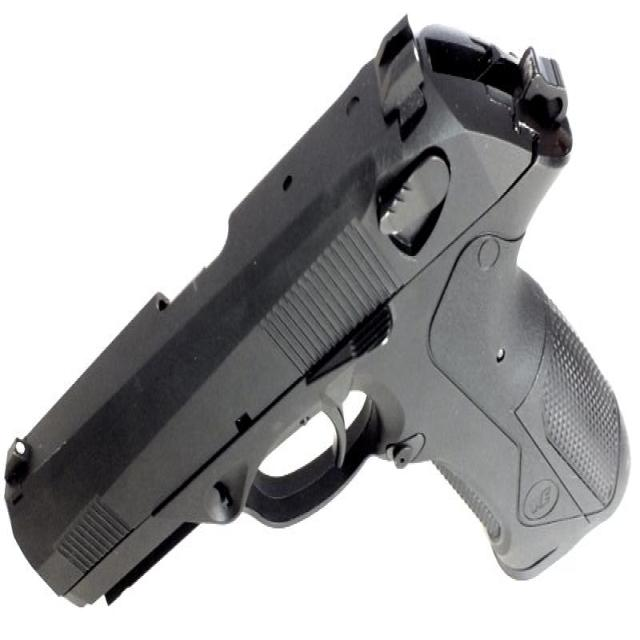gun: (3, 15, 632, 610)
